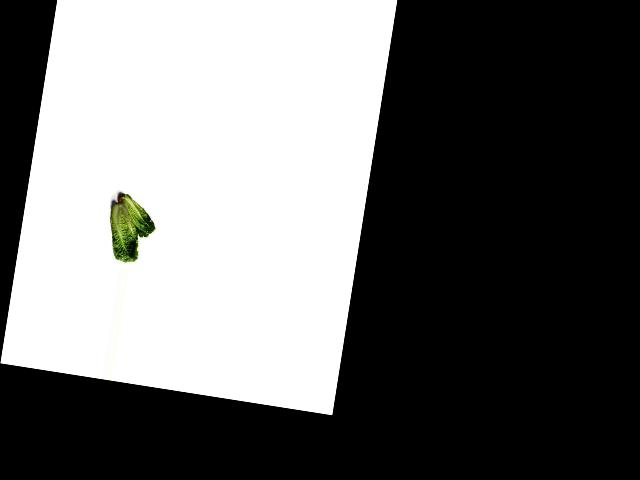lettuce: (111, 189, 160, 239)
